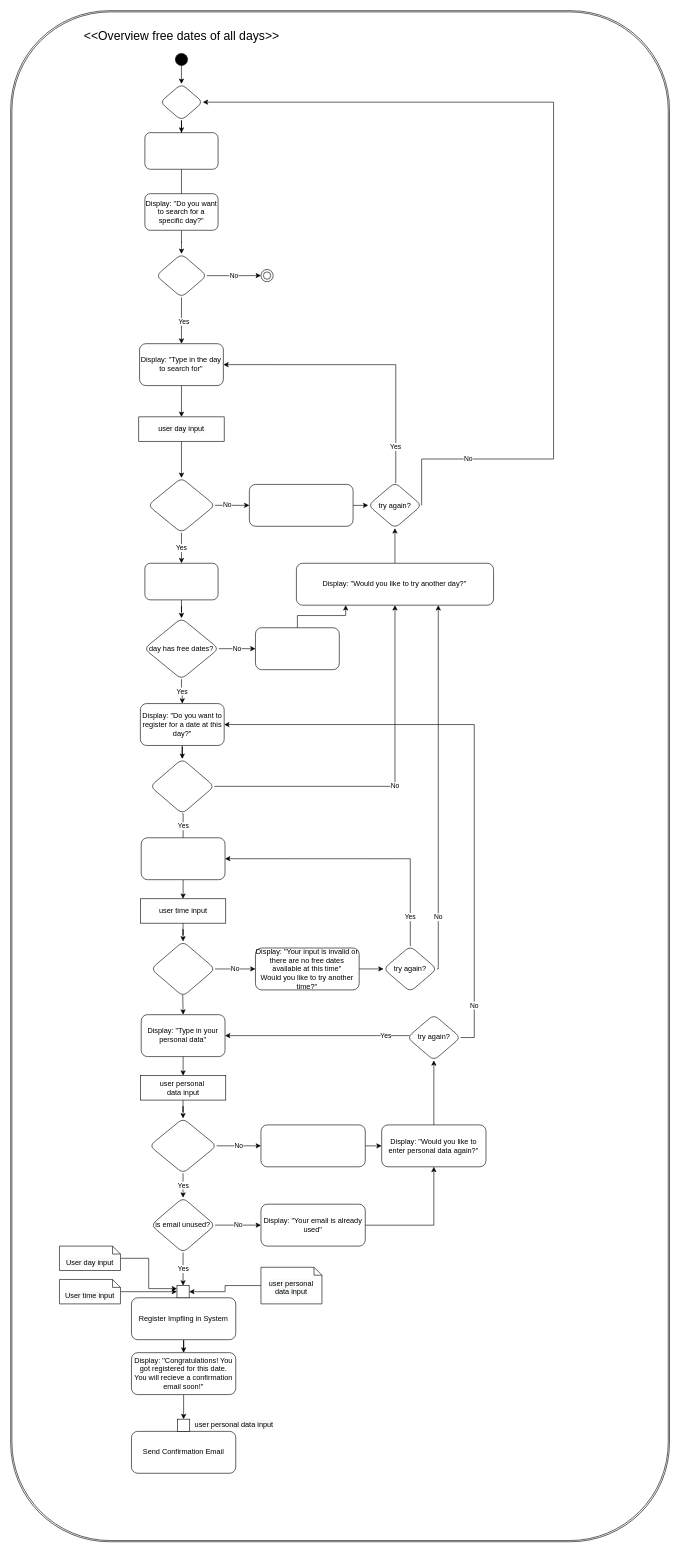
Image size: 680x1552. Some labels were removed from this diagram. Each missing label, with the box of its shape:
data valid?: (149, 1118, 217, 1173)
day valid?: (147, 477, 215, 533)
Display free dates for specific day: (144, 563, 218, 600)
Display Overview of all future days: (144, 132, 218, 169)
Display: "Sorry, this day has no free dates to register for.": (255, 627, 339, 670)
Display: "Type in the starting time you want to register for": (141, 837, 225, 880)
Display: "Your input is invalid. Would you like to try again?": (249, 484, 353, 526)
Display: "Your user data is invalid": (260, 1124, 365, 1167)
time valid?: (150, 941, 215, 996)
want to register?: (150, 758, 214, 814)
want to search?: (155, 253, 207, 297)
